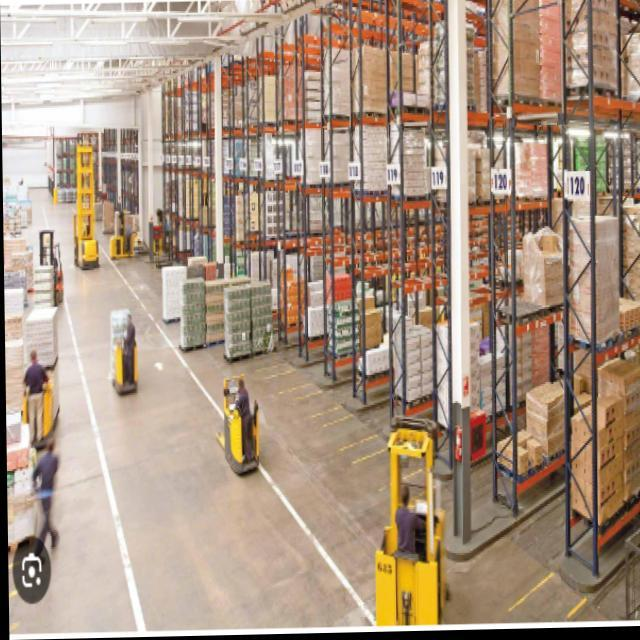boots: (32, 528, 62, 567), (123, 375, 134, 384), (243, 456, 253, 464)
